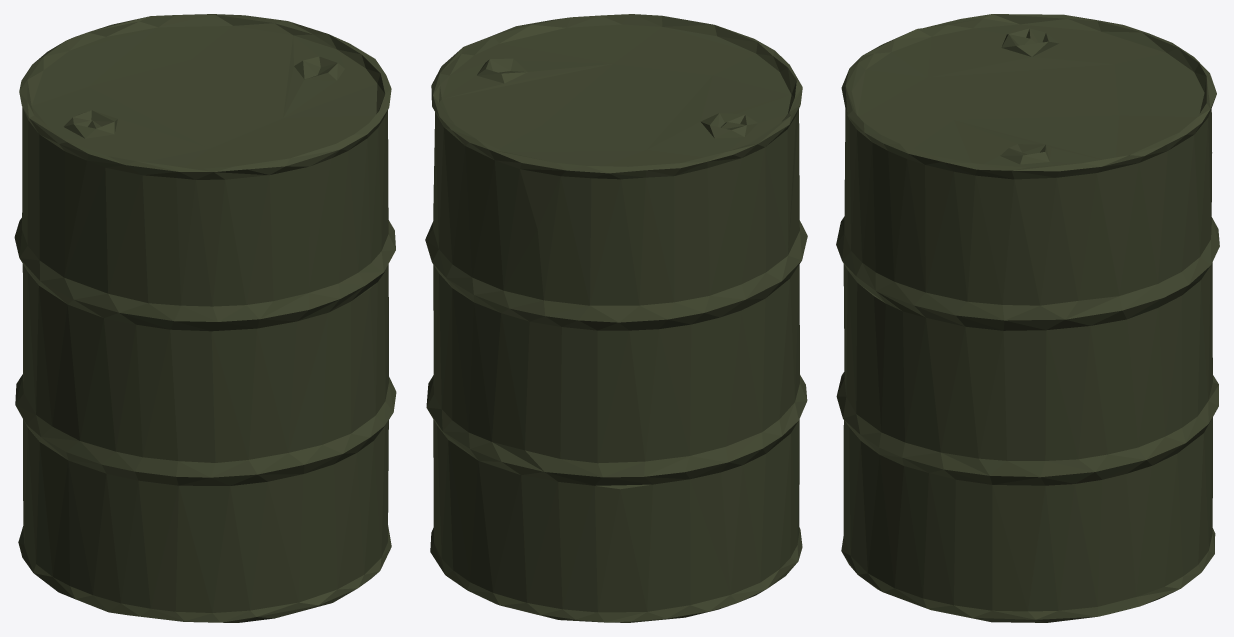
The model's file is drum.glb.
3 renders of one model, left to right at view 1: azimuth 30°, elevation 25°; view 2: azimuth 150°, elevation 25°; view 3: azimuth 270°, elevation 25°, orthographic.
Visible parts, largest first — view 1: Mesh_0; view 2: Mesh_0; view 3: Mesh_0.
Boxes of the visible parts, x1,y1,x2,y2 form: Mesh_0: (14, 14, 396, 622); Mesh_0: (425, 14, 807, 622); Mesh_0: (836, 14, 1219, 622).
Bounding box in the file's own units: 0.682 × 0.9 × 0.6854.
